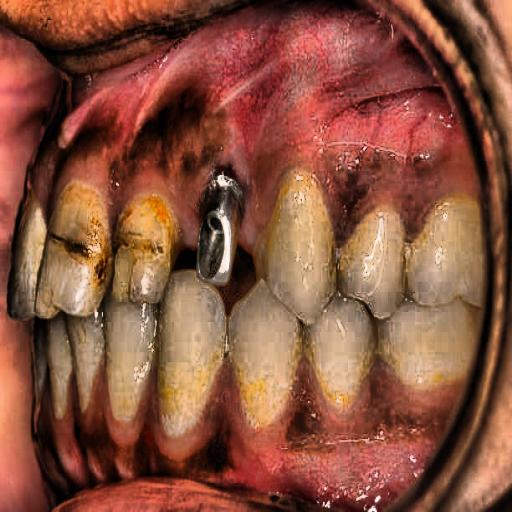Gingivitis: (11, 8, 299, 250), (302, 6, 484, 200)
